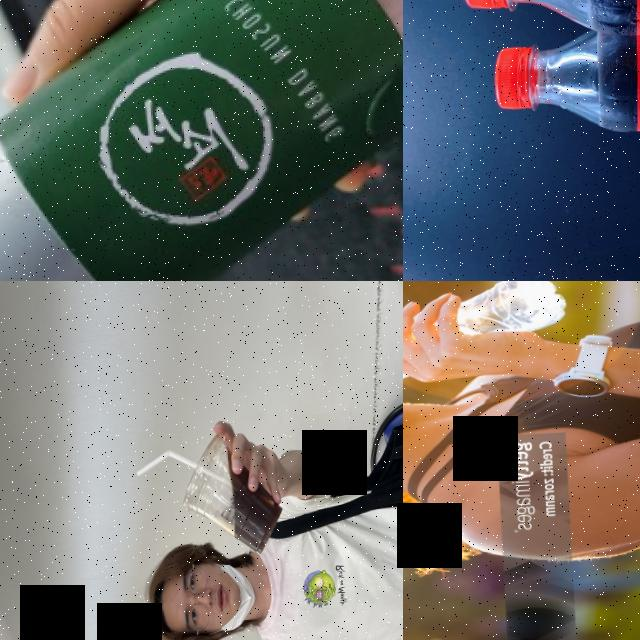bottle: (491, 14, 640, 148), (403, 281, 572, 385)
can: (0, 0, 403, 281)
cup: (180, 428, 286, 559)
